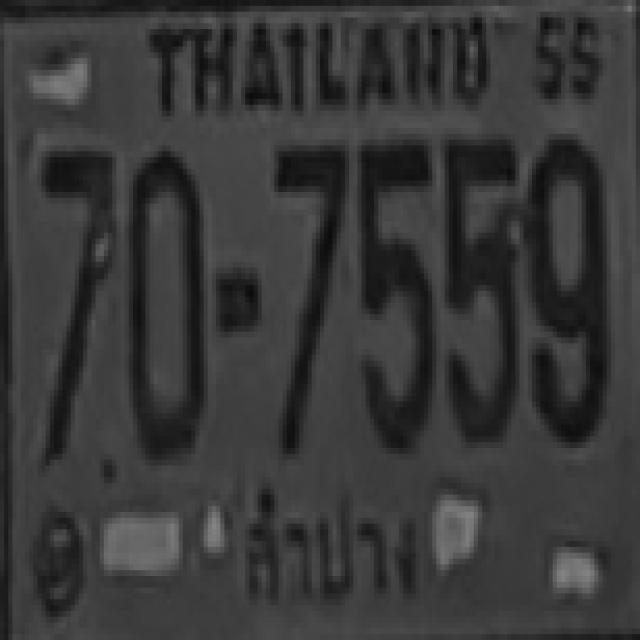0: (124, 145, 203, 454)
5: (358, 137, 432, 445), (440, 134, 516, 430), (358, 137, 432, 317), (440, 137, 516, 311)
7: (270, 140, 345, 436), (38, 146, 112, 413), (270, 140, 345, 360), (38, 145, 112, 355), (270, 140, 345, 332), (38, 145, 112, 326)
9: (524, 134, 606, 436)
Lampang: (230, 464, 432, 616)
